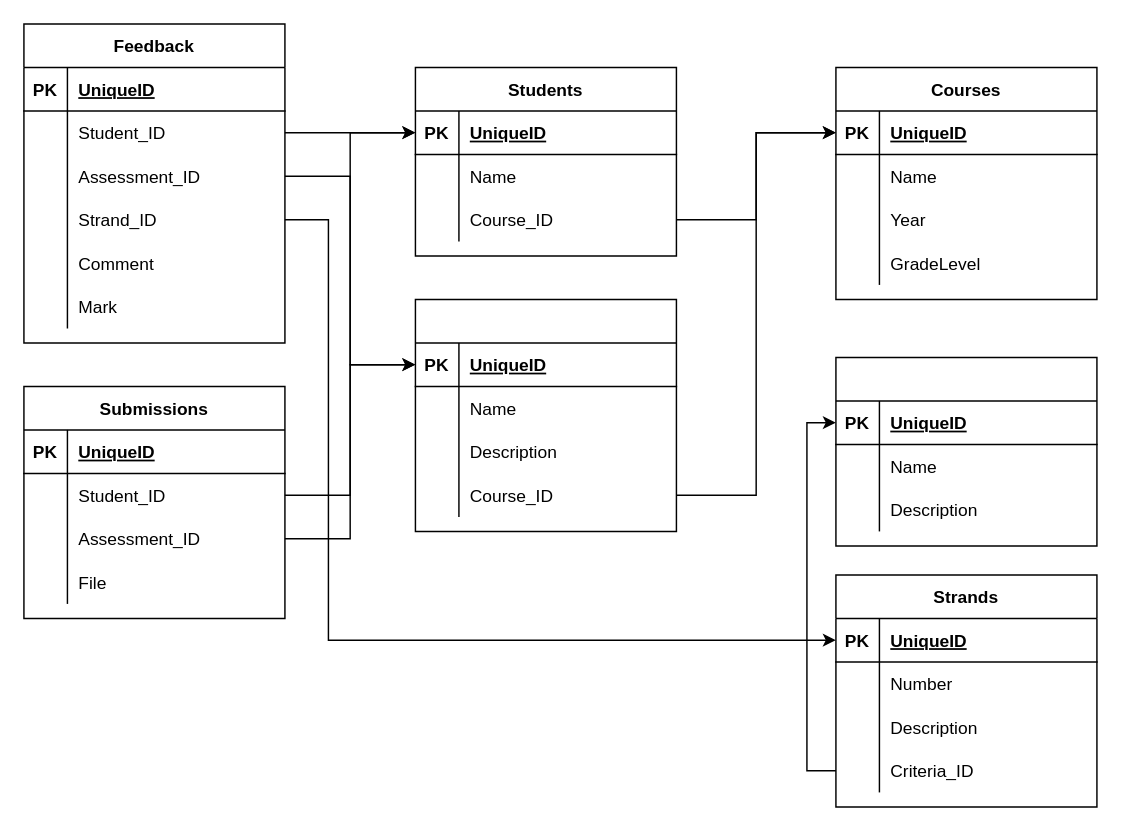
Image size: 1121x831. Some labels were removed from this diagram. The shapes that lost their labels are listed below. From the top down, each one's box as (x1, y1, x2, y2) in pixels, then its label:
(414, 298, 676, 531): Assessments
(834, 356, 1097, 546): Criteria
